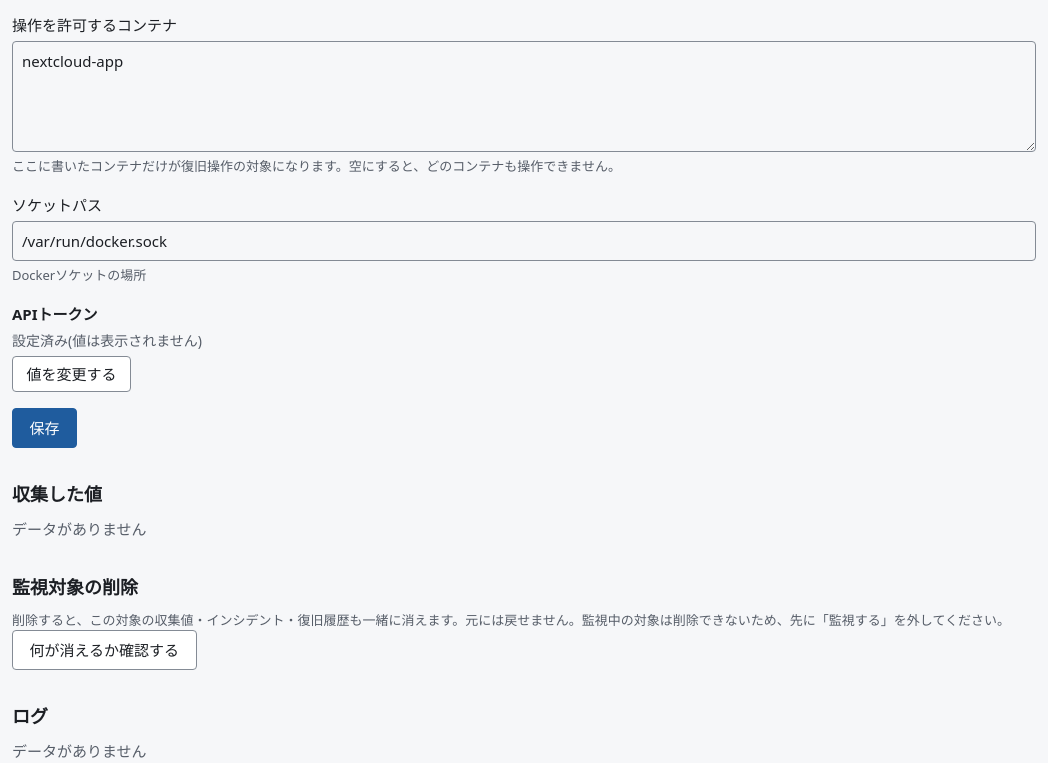
it: TargetDetailView › 監視中で削除できない場合は理由を出す
The width and height of the screenshot is (1048, 763).
(page scrolled)
Click the button with test id "preview-delete" at coordinates (104, 650), box [12,630,197,670]
(page scrolled)
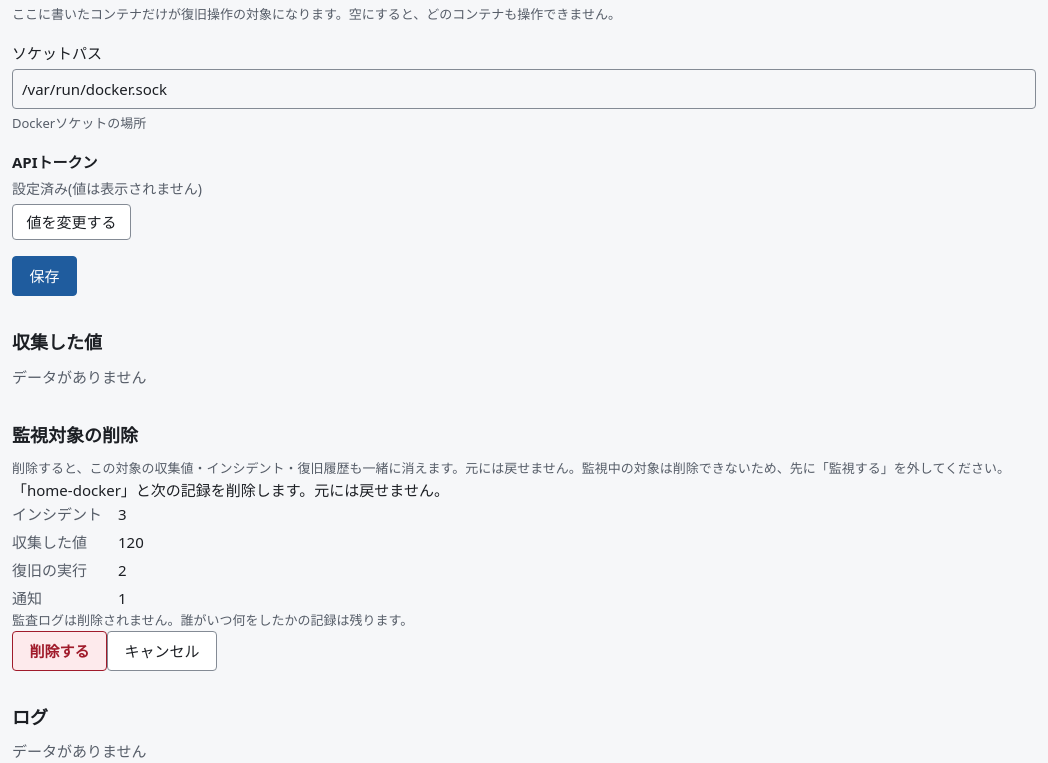
Click the button with test id "confirm-delete" at coordinates (60, 651), box [12,631,107,671]
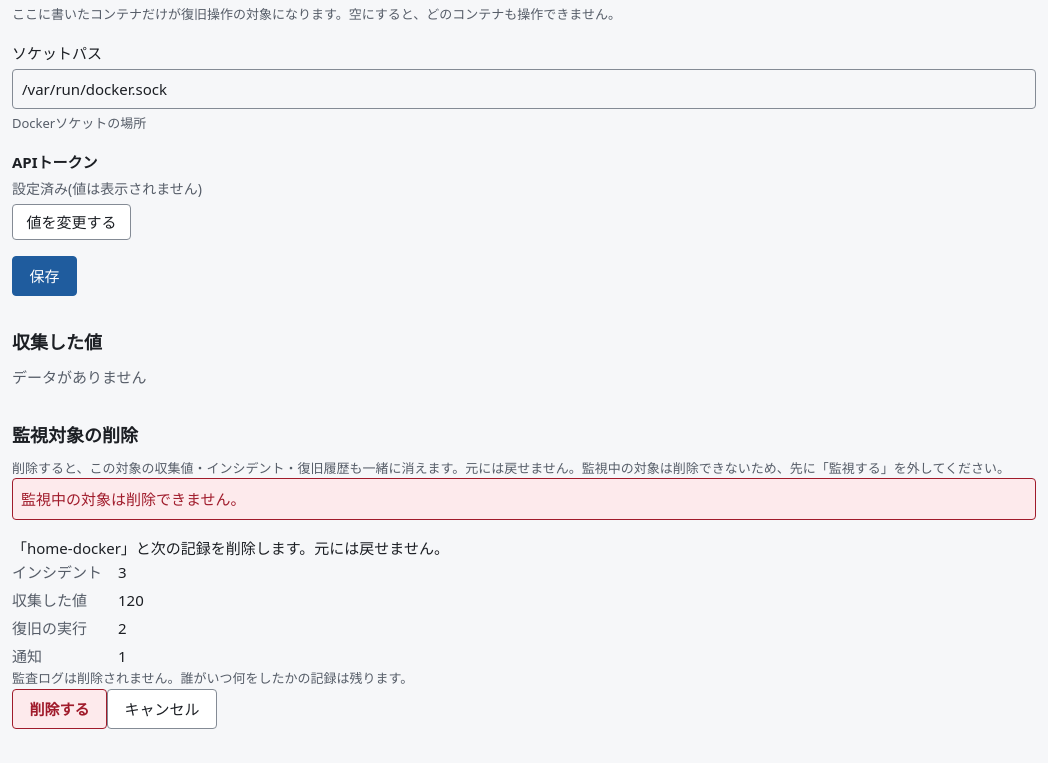
Expected: the element with test id "delete-section" shows "監視中の対象は削除できません。", [21,489,246,509]
